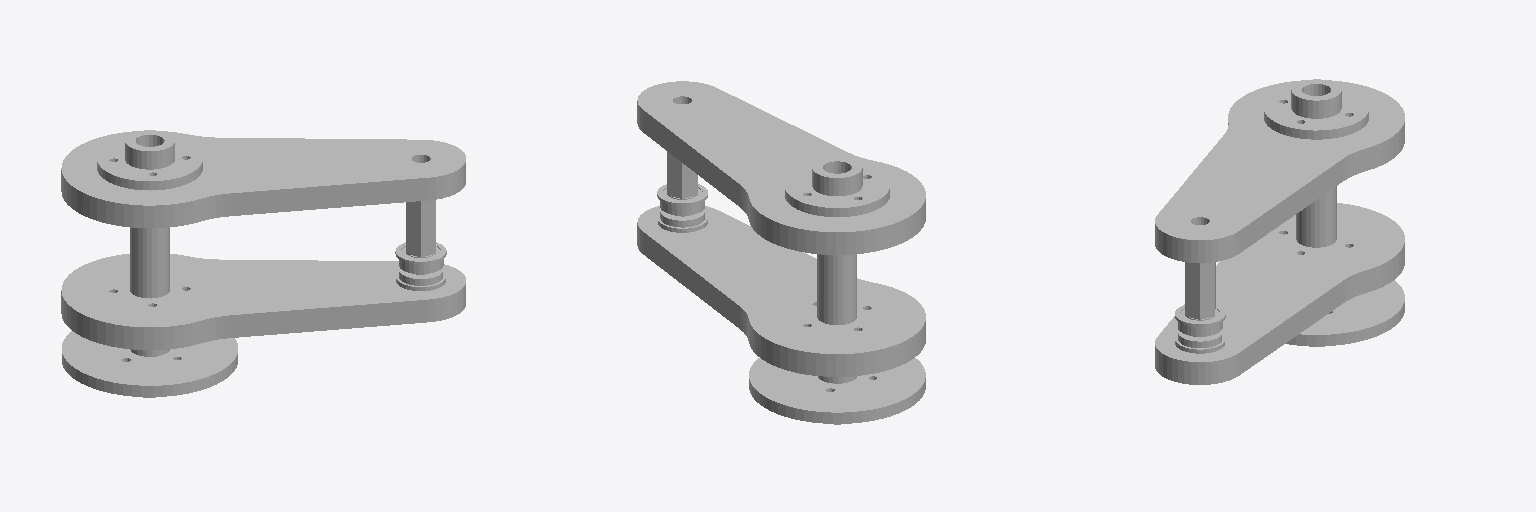
Rendered from linkb1.obj.
The picture shows the model from 3 angles: view 1: azimuth 30°, elevation 25°; view 2: azimuth 150°, elevation 25°; view 3: azimuth 270°, elevation 25°; orthographic projection.
Visible parts, largest first — view 1: linkb1; view 2: linkb1; view 3: linkb1.
Boxes of the visible parts, <box> form: linkb1: <box>61,130,465,397</box>; linkb1: <box>637,81,925,424</box>; linkb1: <box>1155,79,1404,384</box>.
Bounding box in the file's own units: 7.54 × 5.4 × 4.97.